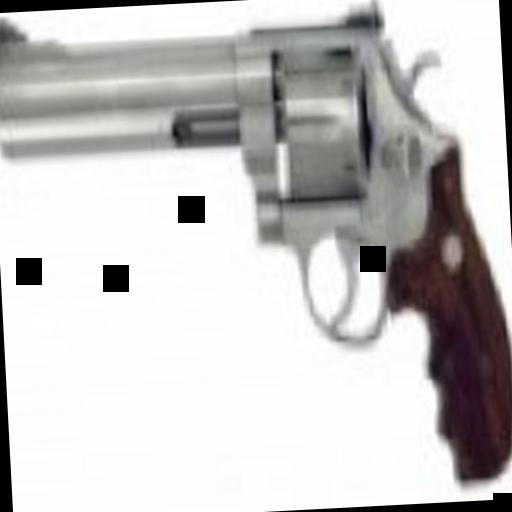Handgun: (0, 0, 503, 506)
